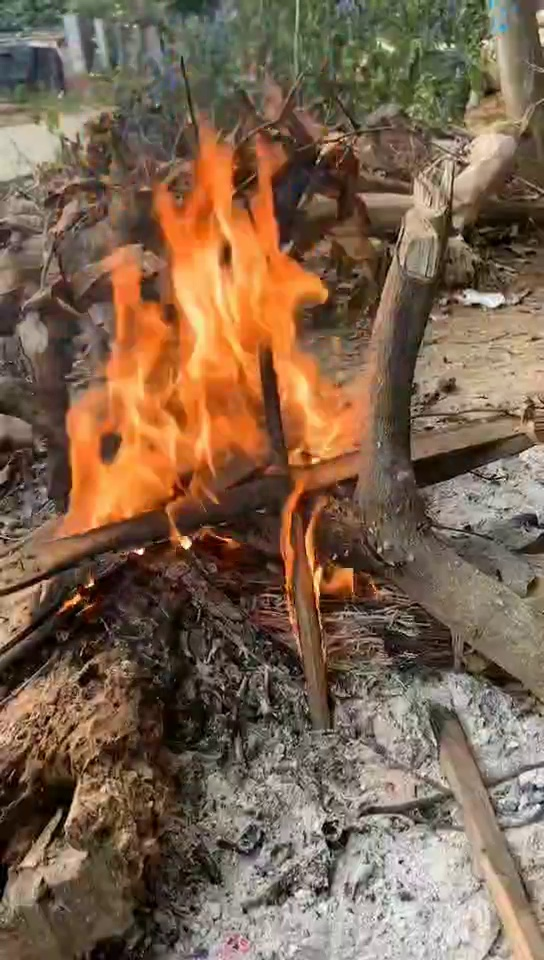fire: (58, 184, 338, 510)
